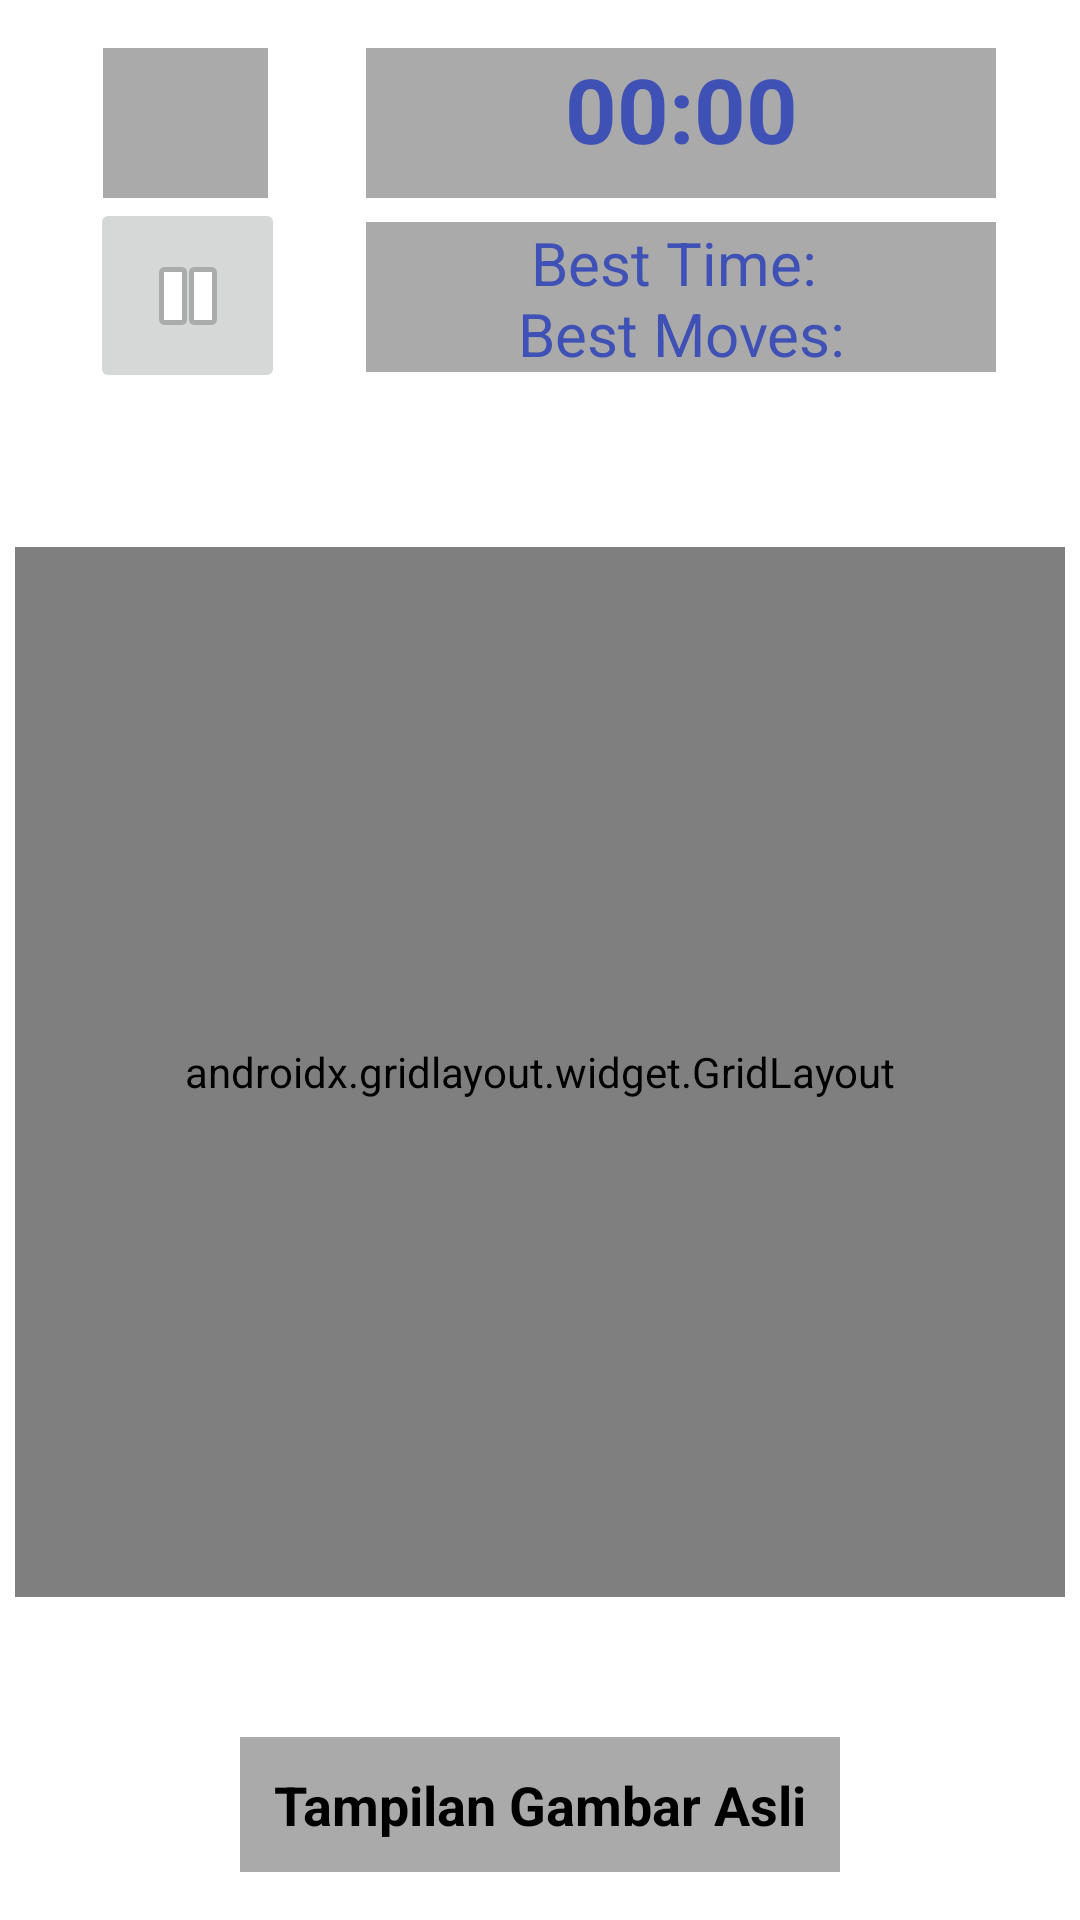

Point at icon controls on the screen. Image size 1080px x 1920px, points as point (x, y).
Pause: point (187, 295)
